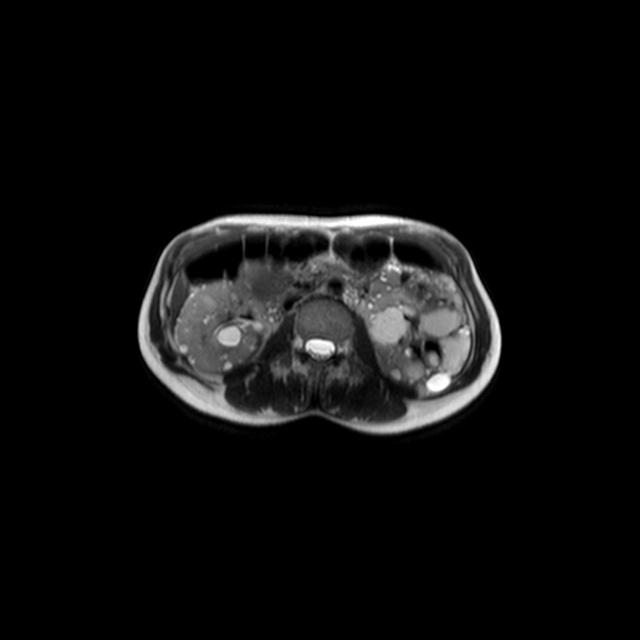sag: (173, 279, 269, 373)
sol: (354, 265, 475, 397)
